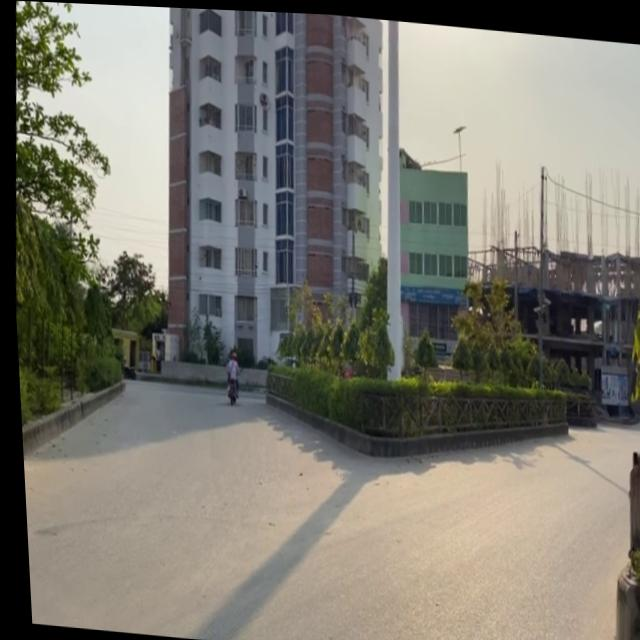Construction-barrier: (246, 385, 559, 497), (15, 368, 125, 469), (129, 368, 263, 392)
Fallen-tree: (220, 374, 235, 404), (118, 363, 133, 379)
Garbage-bin: (219, 348, 240, 404)
Light-pole: (366, 16, 418, 379)
